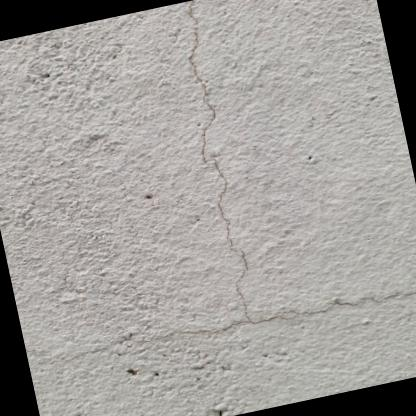crack: (25, 0, 416, 363)
